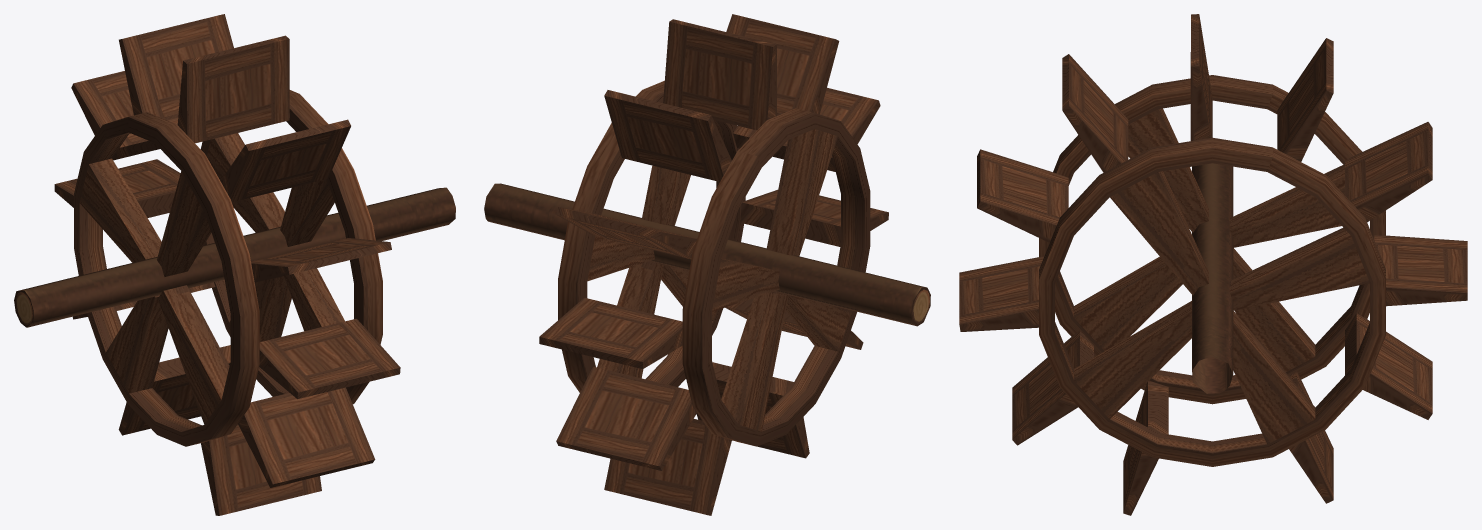
File: WaterMill.fbx
3 views of the same model, side by side, from view 1: azimuth 30°, elevation 25°; view 2: azimuth 150°, elevation 25°; view 3: azimuth 270°, elevation 25° (orthographic). The views are drawn at different scales.
Visible parts, largest first — view 1: WaterWheelMesh2; view 2: WaterWheelMesh2; view 3: WaterWheelMesh2.
Boxes of the visible parts, x1,y1,x2,y2 form: WaterWheelMesh2: (14, 14, 455, 515); WaterWheelMesh2: (484, 14, 930, 515); WaterWheelMesh2: (959, 14, 1467, 515).
Size of the model in its own units: 36.18 by 35.3 by 36.14.
1 material, 1 textured.
